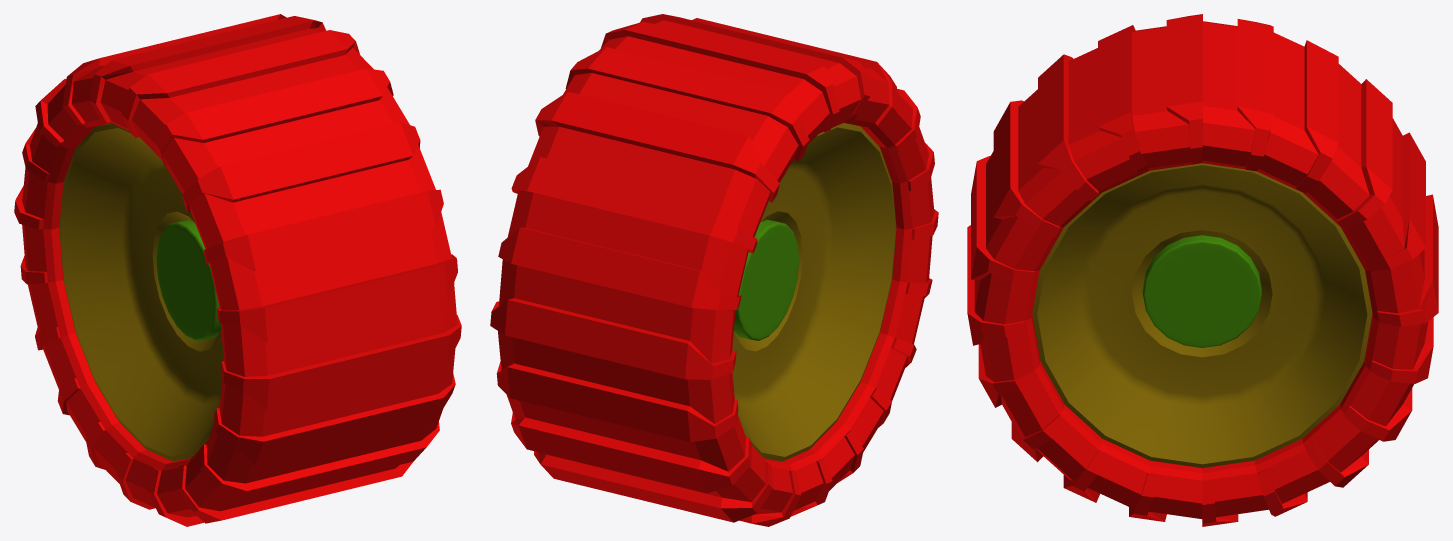
Rendered from Car_RightRearWheel_V1.fbx.
The picture shows the model from 3 angles, left to right: view 1: azimuth 30°, elevation 25°; view 2: azimuth 150°, elevation 25°; view 3: azimuth 270°, elevation 25°; orthographic projection. The views are drawn at different scales.
Parts seen in each view (by area): view 1: polySurface7, polySurface9, polySurface11; view 2: polySurface7, polySurface9, polySurface11; view 3: polySurface7, polySurface9, polySurface11.
Part boxes in pixels (x1,y1,x2,y2): polySurface7: [14, 14, 461, 526]; polySurface9: [59, 123, 223, 461]; polySurface11: [156, 220, 221, 340]; polySurface7: [490, 14, 938, 526]; polySurface9: [732, 123, 896, 461]; polySurface11: [734, 219, 798, 340]; polySurface7: [967, 14, 1438, 526]; polySurface9: [1032, 163, 1372, 467]; polySurface11: [1142, 235, 1261, 347].
Size of the model in its own units: 0.00593 by 0.0104 by 0.0104.
